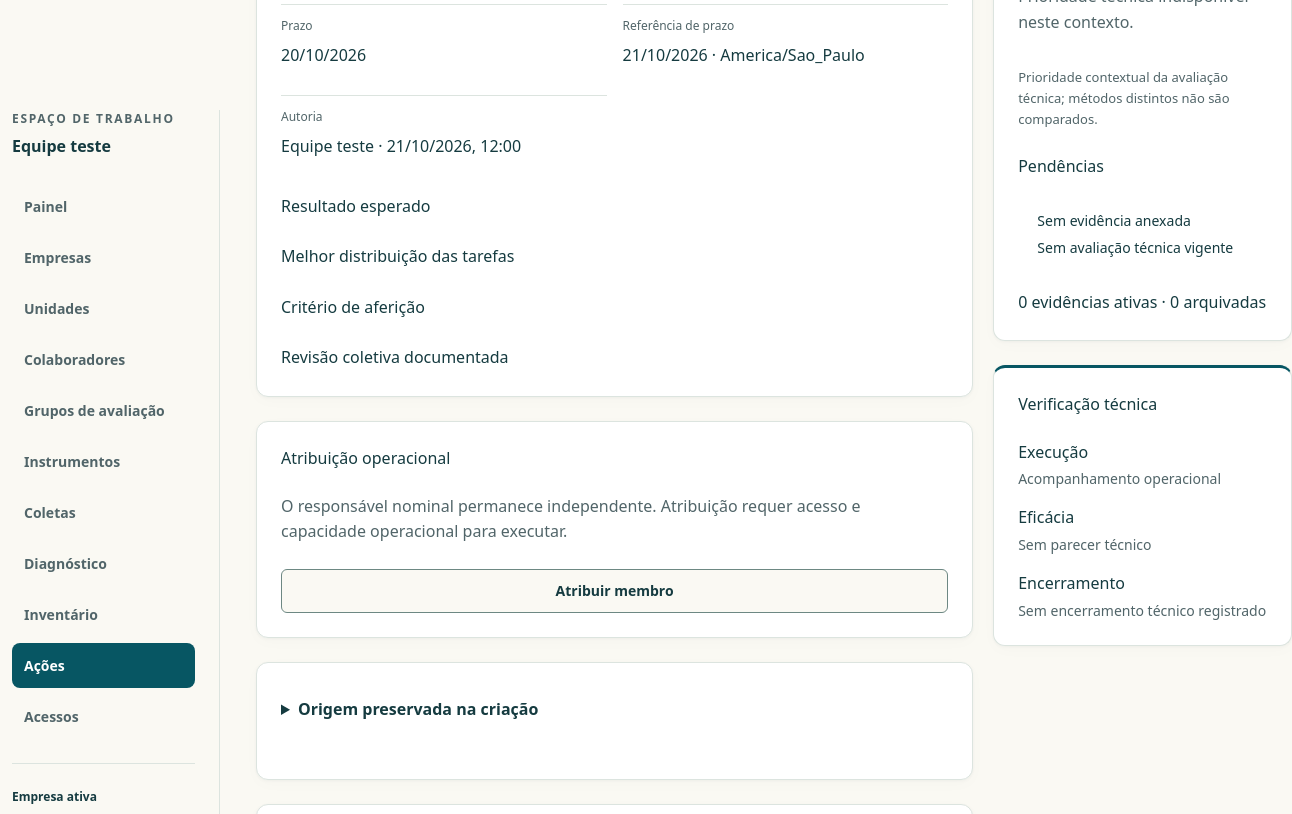
Test: atribuição conserva o rascunho e a versão inicial ao atualizar o detalhe
(page scrolled)
Click the button "Atribuir membro". click: click(615, 591)
box: top-left (281, 569), bottom-right (948, 613)
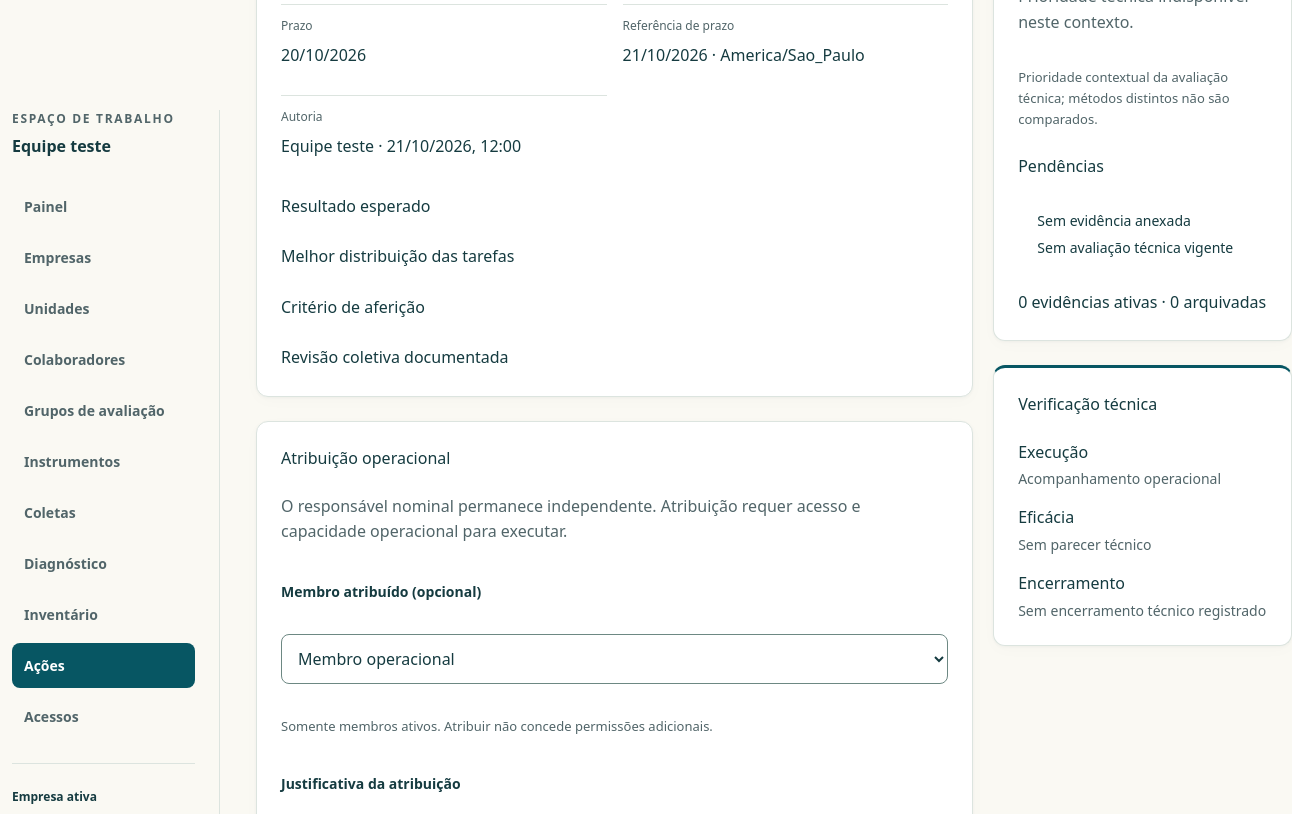
Select "Sem atribuição" in the dropdown labelled "Membro atribuído (opcional)". click: (615, 659)
box: top-left (281, 634), bottom-right (948, 684)
(page scrolled)
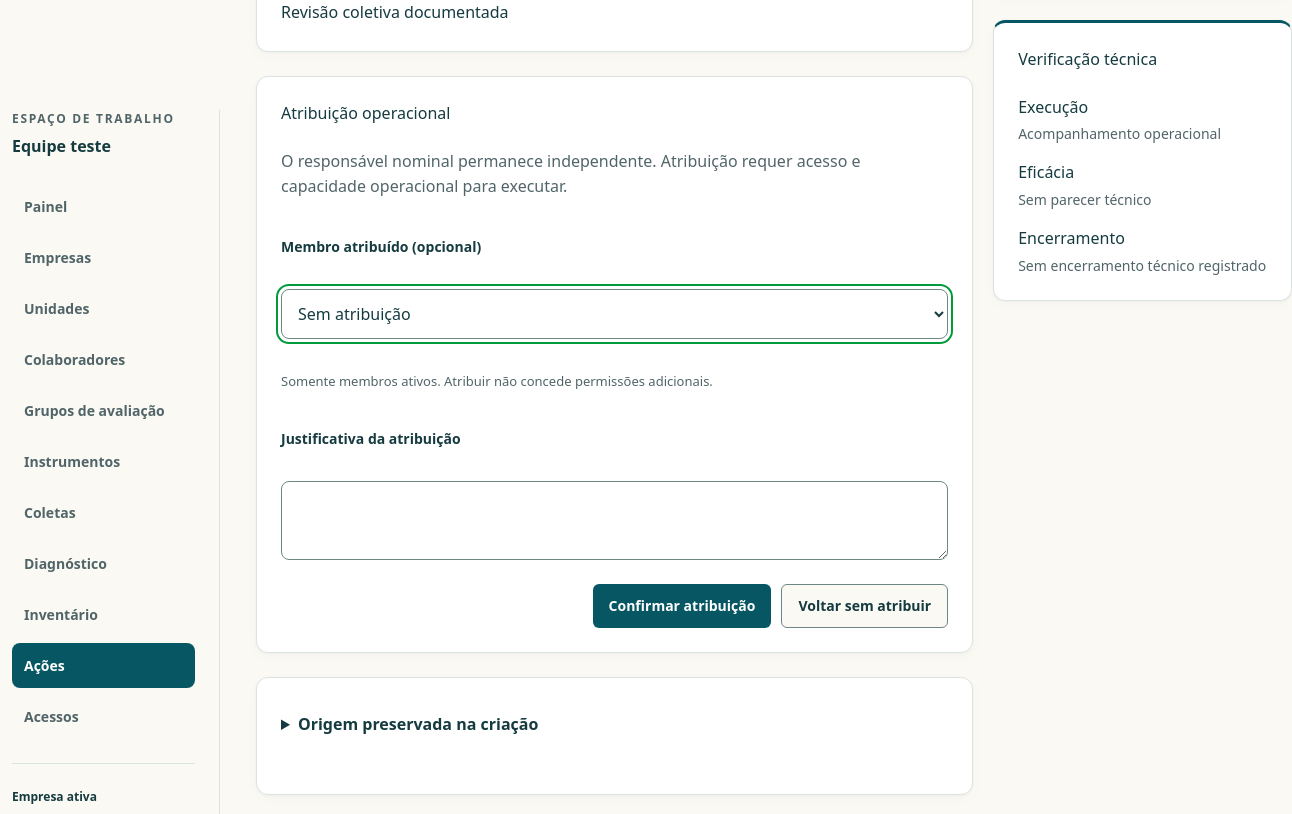
Type "Reorganizar a atribuição da equipe" into the text box labelled "Justificativa da atribuição". click: (615, 520)
box: top-left (281, 481), bottom-right (948, 560)
(page scrolled)
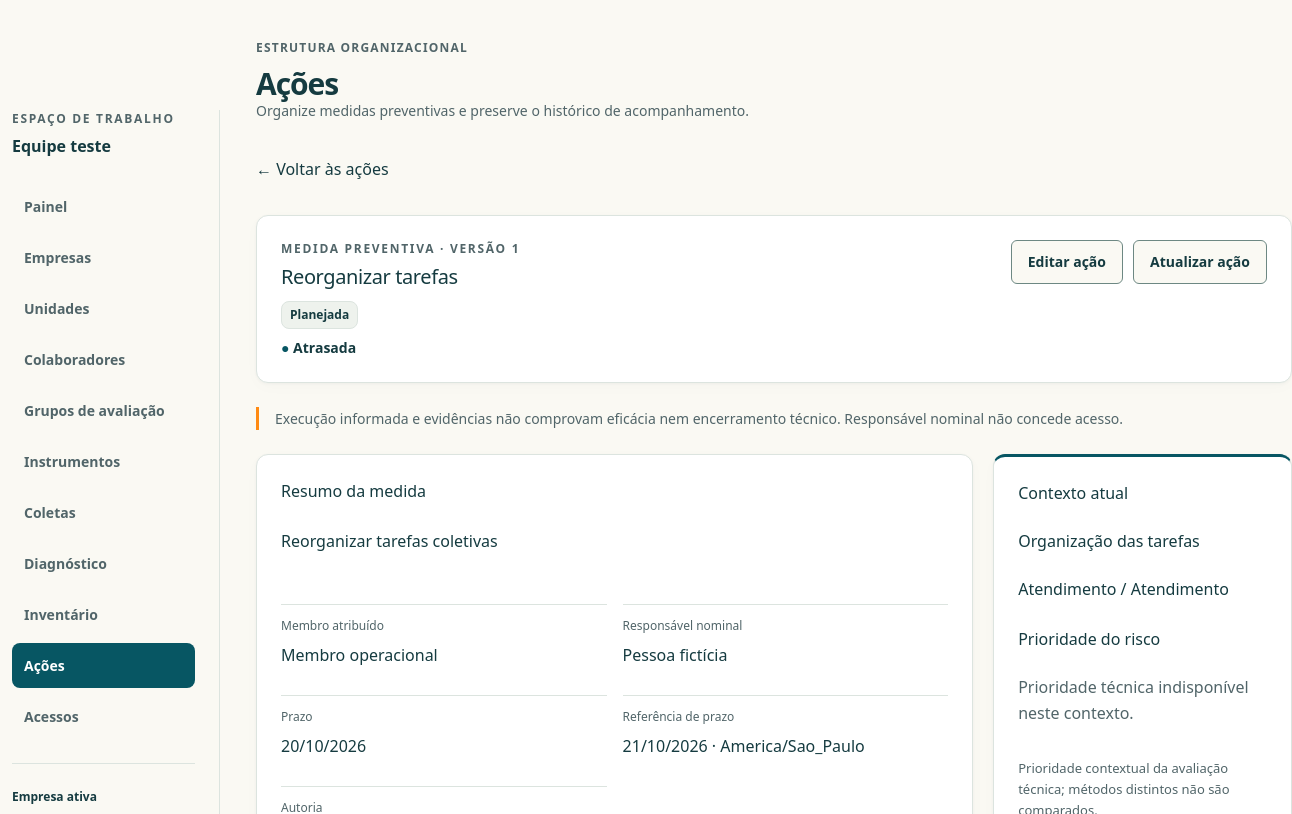
Click the button "Atualizar ação". click: click(1200, 262)
box: top-left (1133, 240), bottom-right (1267, 284)
(page scrolled)
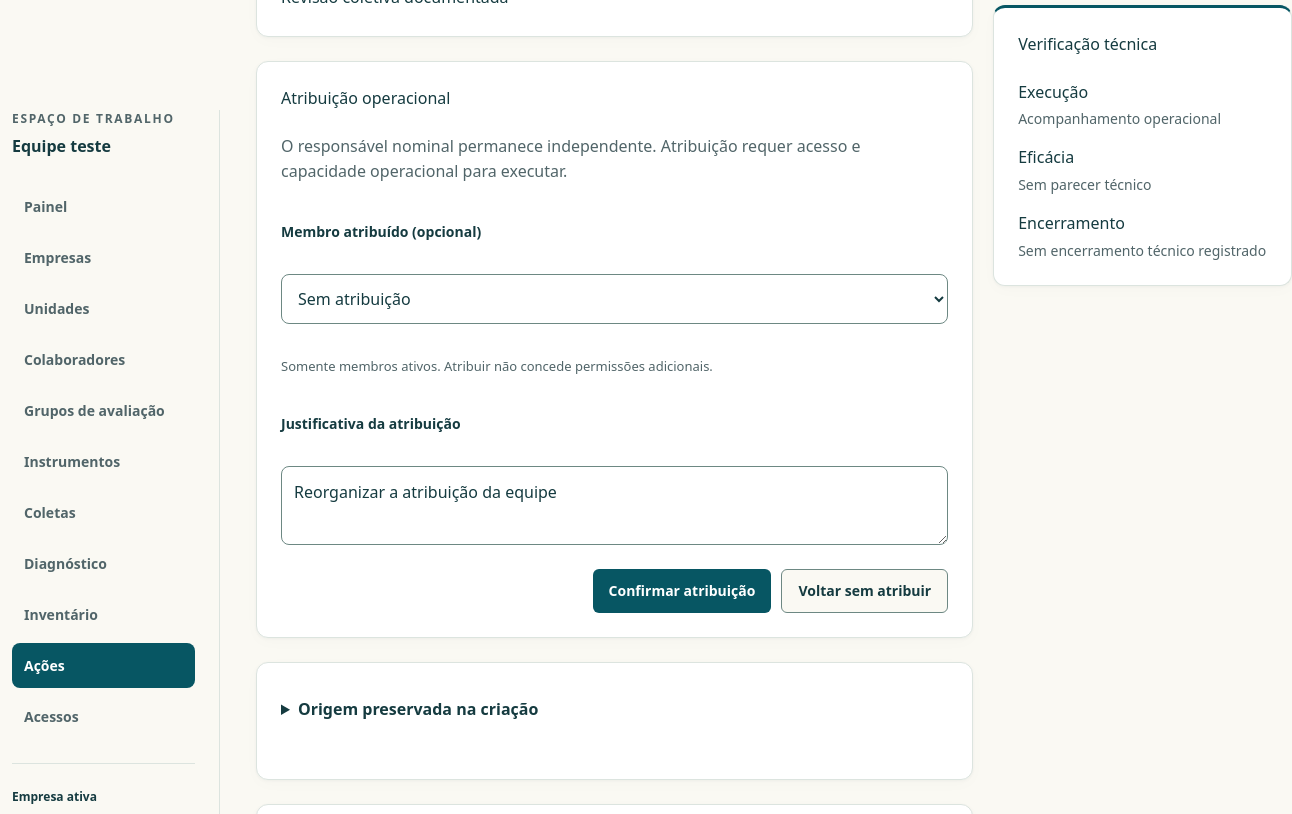
Click the button "Confirmar atribuição". click: click(682, 590)
box: top-left (593, 568), bottom-right (771, 612)
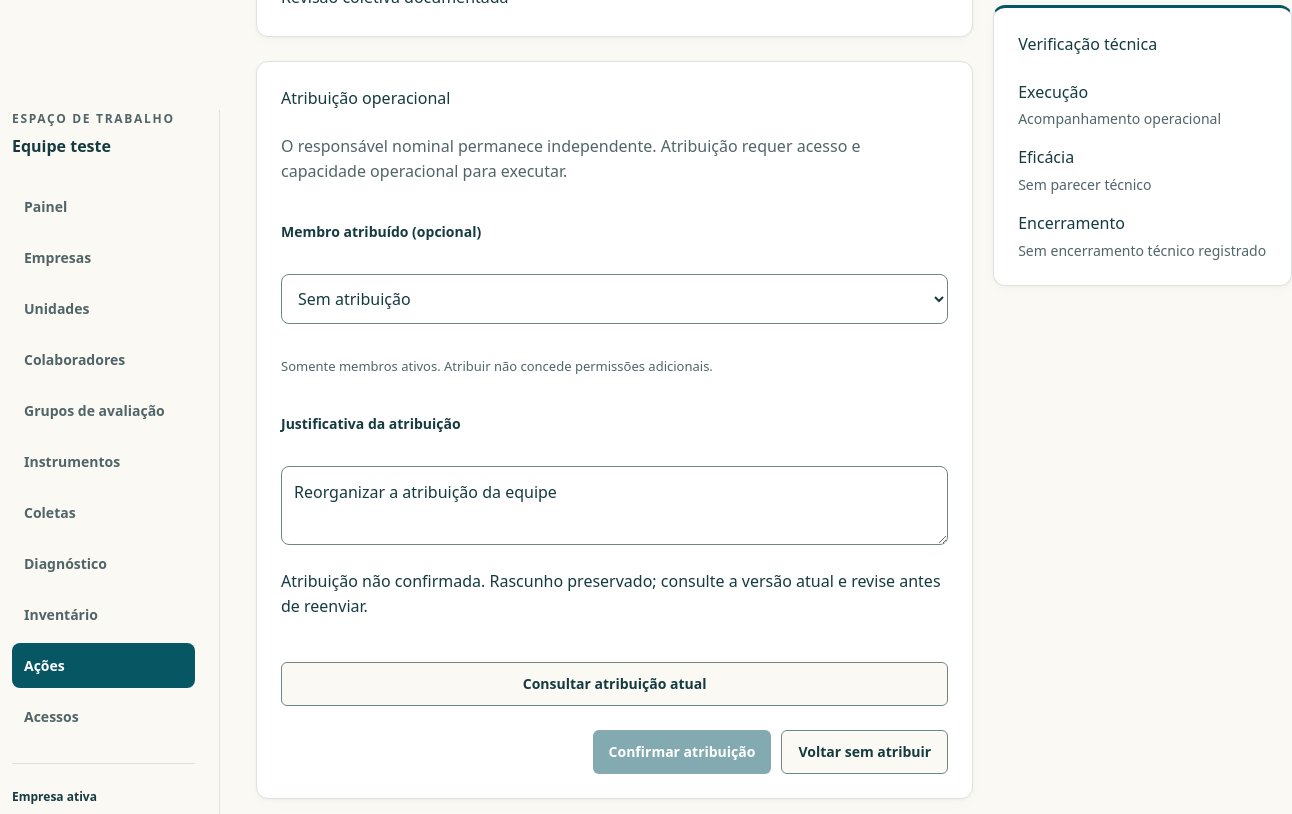
Expected: the message is shown, top-left (281, 568), bottom-right (948, 620)
Expected: the button "Confirmar atribuição" is disabled, top-left (593, 730), bottom-right (771, 774)
